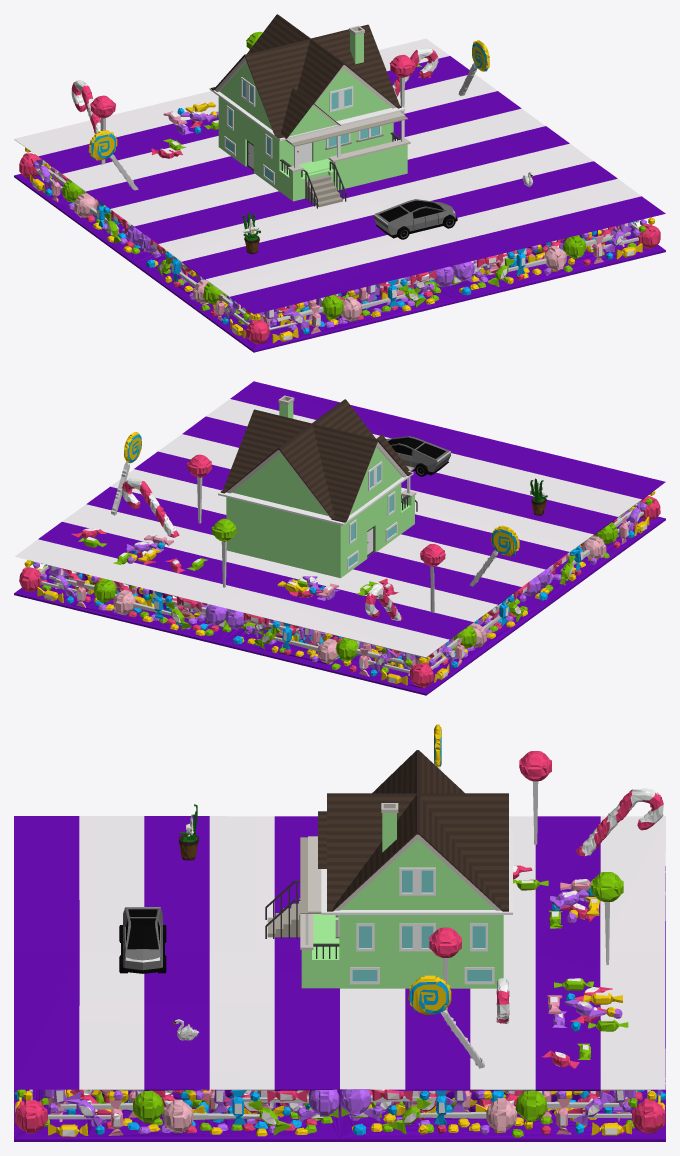
The picture shows the model from 3 angles, top to bottom: view 1: azimuth 30°, elevation 25°; view 2: azimuth 150°, elevation 25°; view 3: azimuth 270°, elevation 25°; orthographic projection. The views are drawn at different scales.
Visible parts, largest first — view 1: TERRAIN_CANDY, Cube.274, VEHICLES_CYBERTRUCK, OBJRANDOM_MONJA BLANCA; view 2: TERRAIN_CANDY, Cube.274, VEHICLES_CYBERTRUCK; view 3: TERRAIN_CANDY, Cube.274, VEHICLES_CYBERTRUCK, OBJRANDOM_MONJA BLANCA.
Part boxes in pixels (x1=…): TERRAIN_CANDY: x1=14, y1=31, x2=665, y2=352; Cube.274: x1=209, y1=14, x2=410, y2=208; VEHICLES_CYBERTRUCK: x1=373, y1=199, x2=457, y2=239; OBJRANDOM_MONJA BLANCA: x1=242, y1=212, x2=260, y2=253; TERRAIN_CANDY: x1=14, y1=381, x2=665, y2=695; Cube.274: x1=218, y1=395, x2=417, y2=578; VEHICLES_CYBERTRUCK: x1=386, y1=436, x2=450, y2=476; TERRAIN_CANDY: x1=14, y1=724, x2=665, y2=1141; Cube.274: x1=265, y1=750, x2=512, y2=988; VEHICLES_CYBERTRUCK: x1=119, y1=907, x2=166, y2=973; OBJRANDOM_MONJA BLANCA: x1=179, y1=804, x2=198, y2=860.
Bounding box in the file's own units: 4059 × 1534 × 4000.
Materials: 27 (3 with a texture image).
